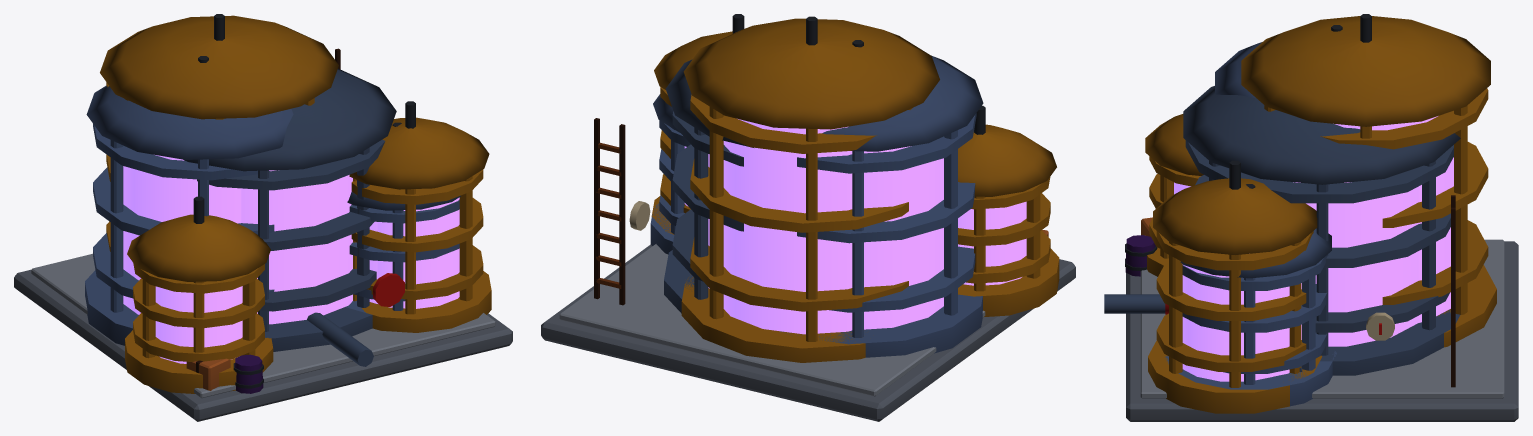
Rendered from b_tank.glb.
3 renders of one model, left to right at view 1: azimuth 30°, elevation 25°; view 2: azimuth 150°, elevation 25°; view 3: azimuth 270°, elevation 25°, orthographic. The views are drawn at different scales.
Parts seen in each view (by area): view 1: tank_t3_body, tank_t1_body, tank_t2_body; view 2: tank_t3_body, tank_t1_body, tank_t2_body; view 3: tank_t3_body, tank_t1_body, tank_t2_body.
Boxes of the visible parts, x1=… form: tank_t3_body: x1=100, y1=14, x2=491, y2=393; tank_t1_body: x1=14, y1=48, x2=512, y2=421; tank_t2_body: x1=85, y1=56, x2=460, y2=385; tank_t3_body: x1=651, y1=14, x2=1059, y2=362; tank_t1_body: x1=541, y1=59, x2=1075, y2=421; tank_t2_body: x1=650, y1=40, x2=983, y2=357; tank_t3_body: x1=1145, y1=14, x2=1496, y2=413; tank_t1_body: x1=1104, y1=86, x2=1518, y2=421; tank_t2_body: x1=1125, y1=25, x2=1342, y2=406.
Bounding box in the file's own units: 2.97 × 2.37 × 2.85.
